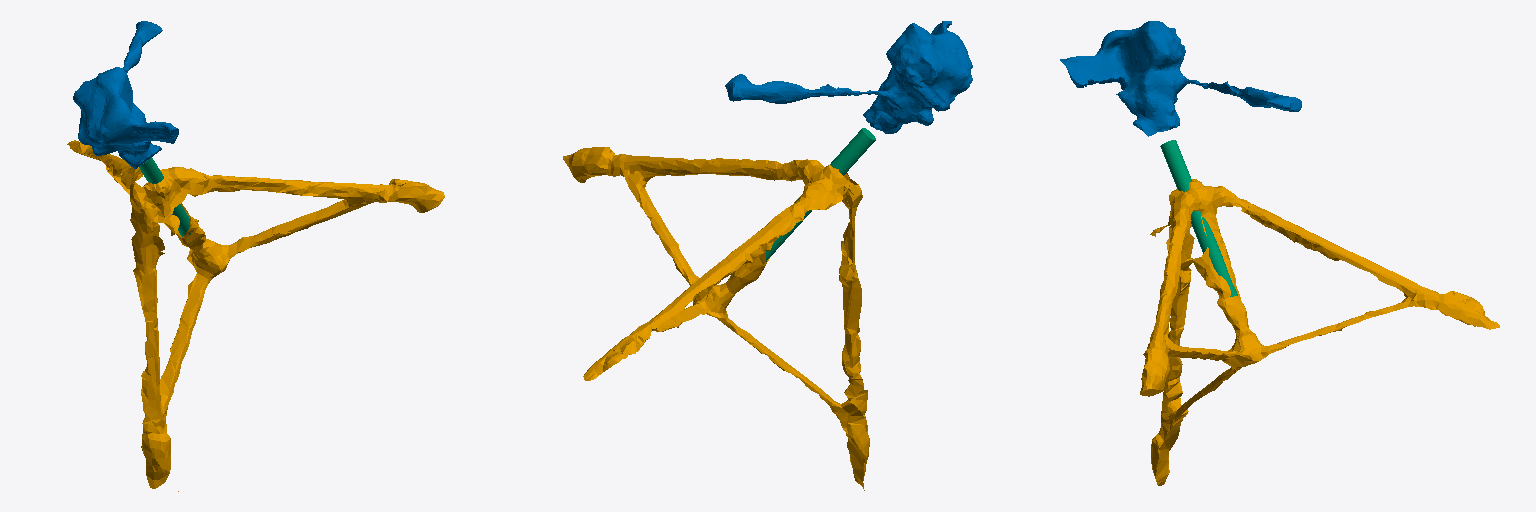
The robot description file, URDF, robot "tripod":
<?xml version="1.0"?>
<robot name="tripod">
  <link name ="rb0">
    <visual>
      <origin xyz='0.168361 -0.143058 -0.376338' rpy='-1.694255 -0.728874 0.656518'/>
      <geometry>
        <mesh filename="meshes/tripod_base.obj"  scale="1 1 1" />
      </geometry>
    </visual>

     <collision>
      <origin xyz='0.168361 -0.143058 -0.376338' rpy='-1.694255 -0.728874 0.656518'/>
      <geometry>
        <mesh filename="meshes/tripod_base.obj"  scale="1 1 1" />
      </geometry>
    </collision>

  </link>
  <joint name="j_0_1" type="prismatic">
    <parent link="rb0"/>
    <child link="rb1"/>
    <origin xyz="-0.0487419676256 -0.300246492684 0.118170579751" rpy="0 0 0 "/>
    <axis xyz="-0.569383950091 -0.377767794532 0.730132461129"/>
    <limit effort="30" velocity="1.0" lower="-3.1416" upper="3.1416"/>
  </joint>
  <joint name="j_0_fixed" type="fixed">
    <parent link="rb1"/>
    <child link="rb1_marker"/>
      <origin xyz="0.0 0.0 0.0" rpy="-2.22159273119 -0.442188349541 1.76162962228"/>
    <limit effort="30" velocity="1.0" lower="-3.1416" upper="3.1416"/>
  </joint>
  <joint name="j_1_2" type="revolute">
    <parent link="rb1_marker"/>
    <child link="rb2"/>
    <origin xyz="0.0443188759183 -0.174435438979 0.0298826280876" rpy="0 0 0 "/>
    <axis xyz="-0.0810523396826 0.996708934762 0.00134818306789"/>
    <limit effort="30" velocity="1.0" lower="-3.1416" upper="3.1416"/>
  </joint>
  <joint name="j_1_fixed" type="fixed">
    <parent link="rb2"/>
    <child link="rb2_marker"/>
      <origin xyz="-0.101828422227 -0.00762316302123 -0.0474401751833" rpy="2.57196895832 -0.110135904072 1.63434688073"/>
    <limit effort="30" velocity="1.0" lower="-3.1416" upper="3.1416"/>
  </joint>
  <link name ="rb1">
  </link>
  <link name ="rb1_marker">
    <visual>
      <origin xyz='-0.004922 0.287107 0.024934' rpy='3.119540 -0.823431 -3.032967'/>
      <geometry>
        <mesh filename="meshes/tripod_rod.obj"  scale="1 1 1" />
      </geometry>
    </visual>

     <collision>
      <origin xyz='-0.004922 0.287107 0.024934' rpy='3.119540 -0.823431 -3.032967'/>
      <geometry>
        <mesh filename="meshes/tripod_rod.obj"  scale="1 1 1" />
      </geometry>
    </collision>

  </link>
  <link name ="rb2">
  </link>
  <link name ="rb2_marker">
    <visual>
      <origin xyz='0.256600 0.072647 0.120465' rpy='3.118098 -0.142170 1.448767'/>
      <geometry>
        <mesh filename="meshes/tripod_top.obj"  scale="1 1 1" />
      </geometry>
    </visual>

     <collision>
      <origin xyz='0.256600 0.072647 0.120465' rpy='3.118098 -0.142170 1.448767'/>
      <geometry>
        <mesh filename="meshes/tripod_top.obj"  scale="1 1 1" />
      </geometry>
    </collision>
  </link>
</robot>

--- Facts derived from the render (not from the file) ---
The picture shows the robot from 3 angles, left to right: view 1: azimuth 30°, elevation 25°; view 2: azimuth 150°, elevation 25°; view 3: azimuth 270°, elevation 25°; orthographic projection.
Robot: tripod — 5 links, 4 joints (1 revolute, 1 prismatic, 2 fixed); root link rb0; default pose: all joints at 0.
Visible links, largest first — view 1: rb0, rb2_marker, rb1_marker; view 2: rb0, rb2_marker, rb1_marker; view 3: rb0, rb2_marker, rb1_marker.
Boxes of the visible links, box(x1,y1,x2,y2) form: rb0: box(67, 140, 444, 491); rb2_marker: box(73, 21, 178, 168); rb1_marker: box(139, 157, 190, 236); rb0: box(563, 147, 869, 490); rb2_marker: box(725, 21, 972, 133); rb1_marker: box(766, 128, 875, 261); rb0: box(1140, 179, 1499, 485); rb2_marker: box(1060, 21, 1301, 136); rb1_marker: box(1160, 140, 1237, 296).
Bounding box of the posed robot: 0.7619 × 0.7767 × 0.8648 m (x, y, z).
3 mesh visuals loaded from 3 distinct referenced files (3 OBJ).